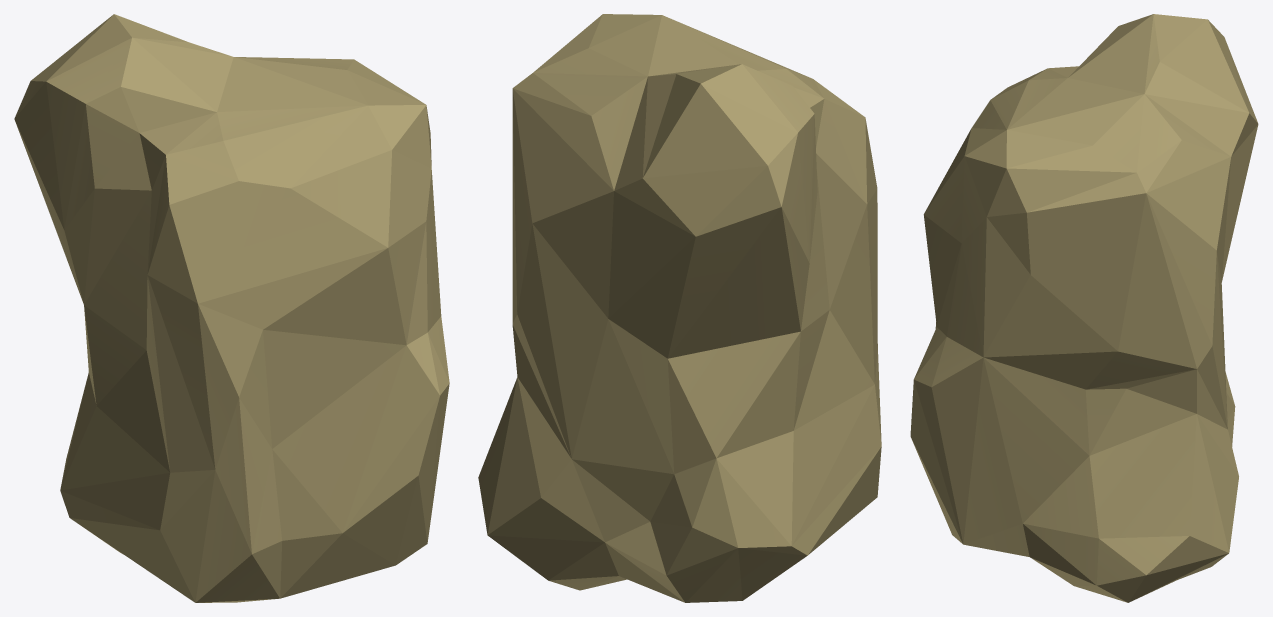
Rendered from SM_small_rock_63.fbx.
3 views of the same model, side by side, from view 1: azimuth 30°, elevation 25°; view 2: azimuth 150°, elevation 25°; view 3: azimuth 270°, elevation 25° (orthographic). The views are drawn at different scales.
Visible parts, largest first — view 1: small_rock_63; view 2: small_rock_63; view 3: small_rock_63.
Part boxes in pixels (<box>): small_rock_63: <box>14,14,449,602</box>; small_rock_63: <box>478,14,881,602</box>; small_rock_63: <box>910,14,1258,602</box>.
Size of the model in its own units: 99.63 by 155 by 97.05.
